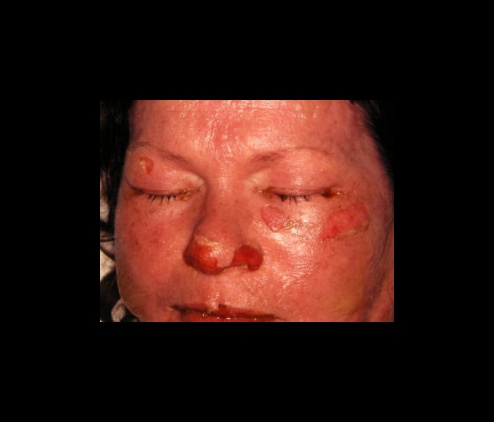SJS-TEN: (309, 193, 386, 257), (180, 230, 266, 278), (254, 188, 311, 245), (123, 133, 176, 187), (173, 301, 284, 323)
